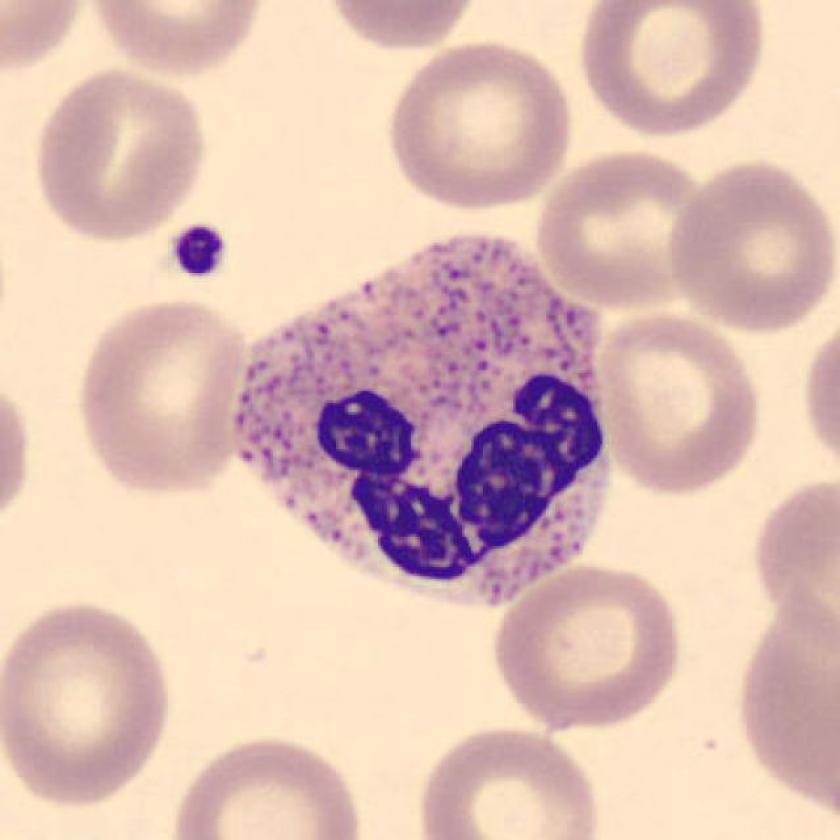neutrophil: (232, 235, 617, 608)
